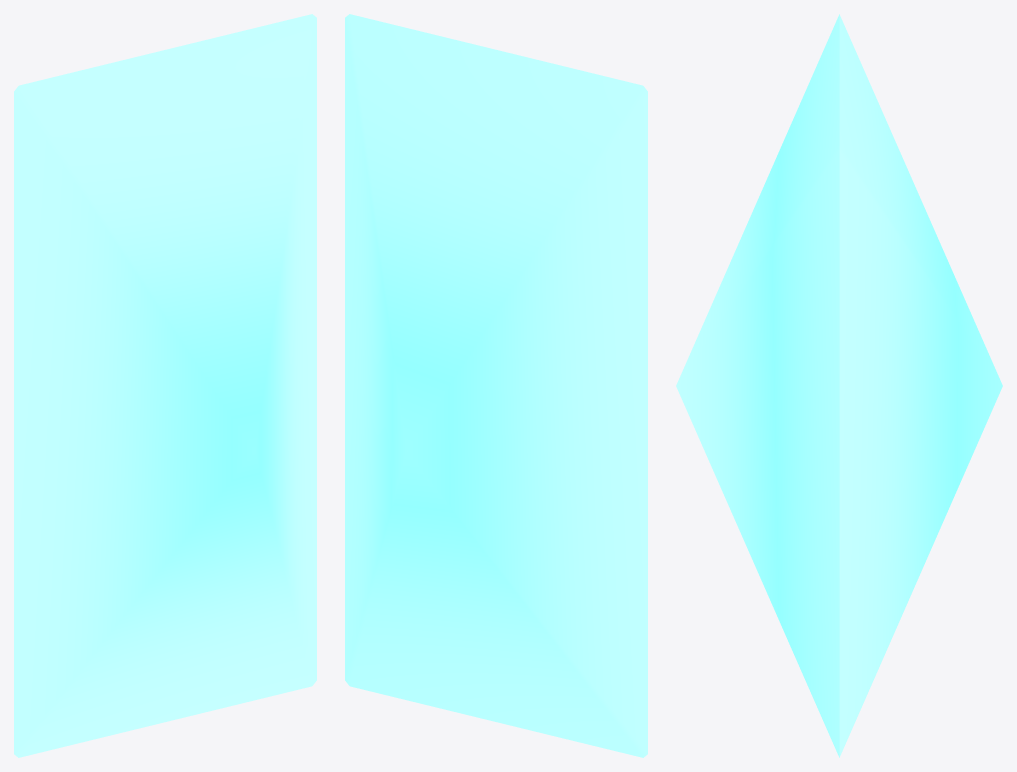
The model's file is RightHand_Pantalla.fbx.
The picture shows the model from 3 angles, left to right: view 1: azimuth 30°, elevation 25°; view 2: azimuth 150°, elevation 25°; view 3: azimuth 270°, elevation 25°; orthographic projection. The views are drawn at different scales.
Visible parts, largest first — view 1: Civ_Telefono_RightHand_Pantalla; view 2: Civ_Telefono_RightHand_Pantalla; view 3: Civ_Telefono_RightHand_Pantalla.
Boxes of the visible parts, x1,y1,x2,y2 form: Civ_Telefono_RightHand_Pantalla: (14, 14, 316, 757); Civ_Telefono_RightHand_Pantalla: (345, 14, 647, 757); Civ_Telefono_RightHand_Pantalla: (676, 14, 1002, 757).
Bounding box in the file's own units: 0.2357 × 0.5 × 0.2416.
